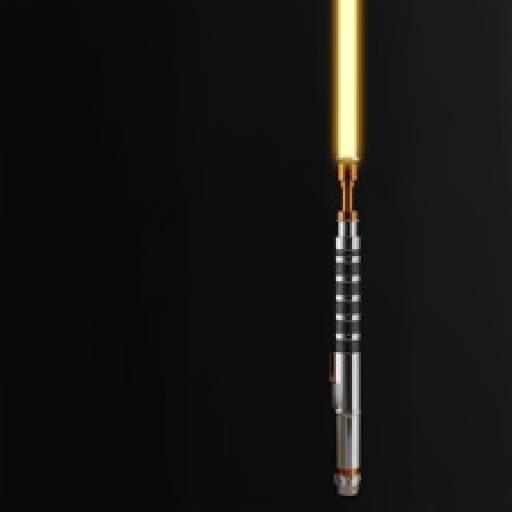lightsaber: (318, 0, 384, 500)
